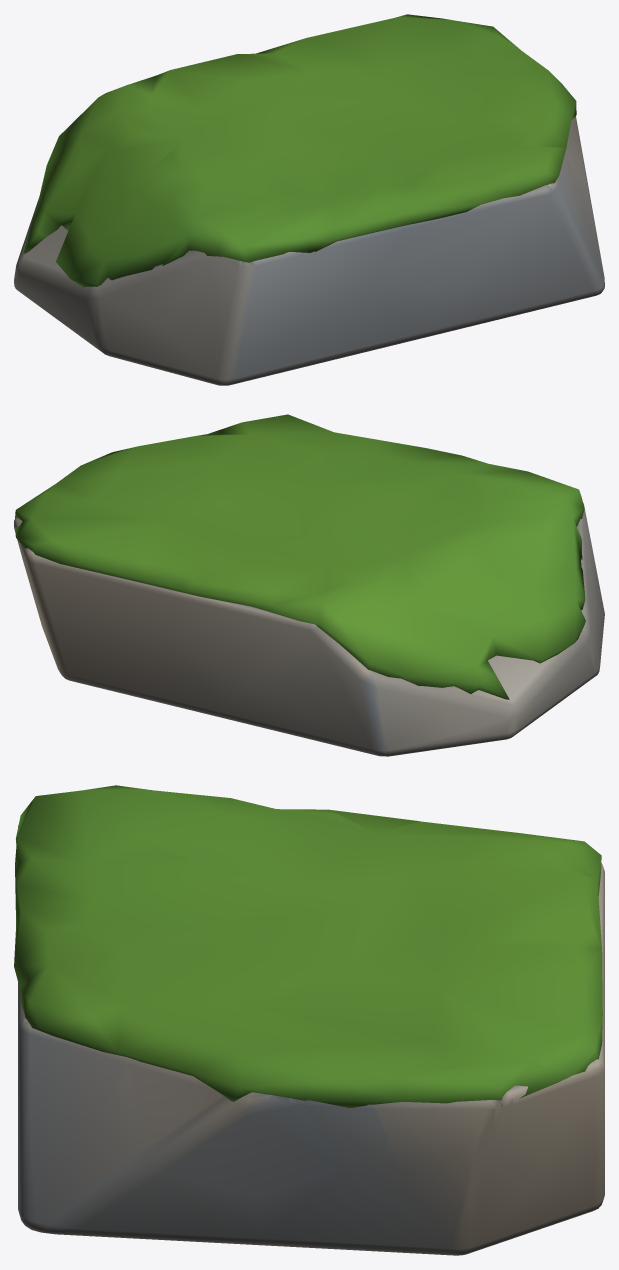
The model's file is grotto_rock_b_lod1.glb.
3 renders of one model, top to bottom at view 1: azimuth 30°, elevation 25°; view 2: azimuth 150°, elevation 25°; view 3: azimuth 270°, elevation 25°, orthographic. The views are drawn at different scales.
Visible parts, largest first — view 1: moss.001, grotto_rock_b.001; view 2: moss.001, grotto_rock_b.001; view 3: moss.001, grotto_rock_b.001.
Part boxes in pixels (x1,y1,x2,y2): moss.001: [23, 14, 576, 287]; grotto_rock_b.001: [14, 116, 604, 385]; moss.001: [15, 414, 585, 699]; grotto_rock_b.001: [14, 502, 604, 756]; moss.001: [14, 785, 602, 1107]; grotto_rock_b.001: [18, 825, 604, 1255].
Size of the model in its own units: 5.02 by 1.33 by 3.62.
